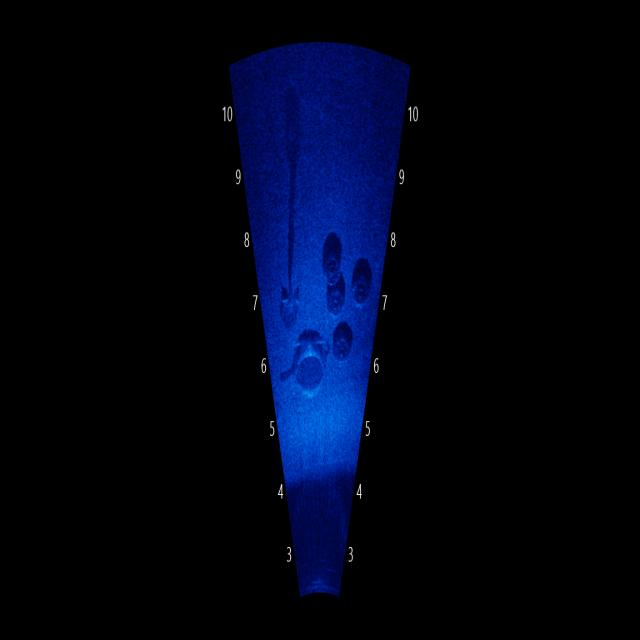circle: (284, 326, 334, 418), (315, 260, 355, 330), (346, 253, 380, 316), (328, 312, 360, 372), (316, 247, 352, 291)
